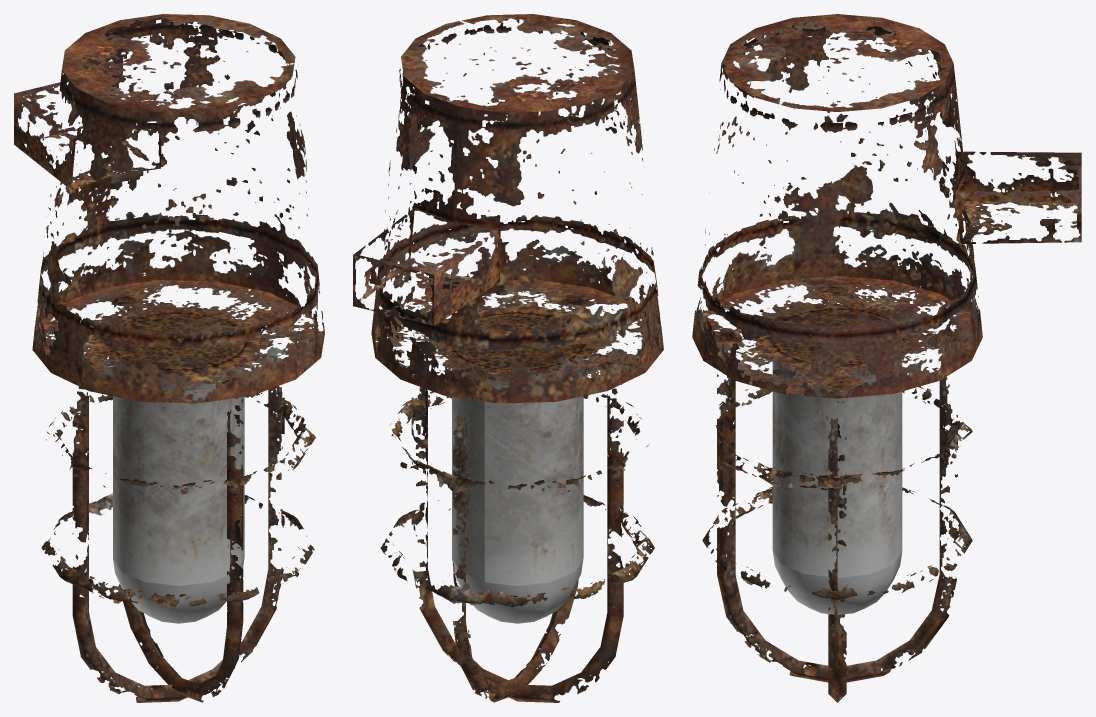
Rendered from wall_light_13.fbx.
The picture shows the model from 3 angles, left to right: view 1: azimuth 30°, elevation 25°; view 2: azimuth 150°, elevation 25°; view 3: azimuth 270°, elevation 25°; orthographic projection.
Visible parts, largest first — view 1: wall_light_13; view 2: wall_light_13; view 3: wall_light_13.
Boxes of the visible parts, x1,y1,x2,y2 form: wall_light_13: (14,14,324,702); wall_light_13: (353,14,663,702); wall_light_13: (692,14,1081,702).
Size of the model in its own units: 4.21 by 10.04 by 5.64.
1 material, 1 textured.
